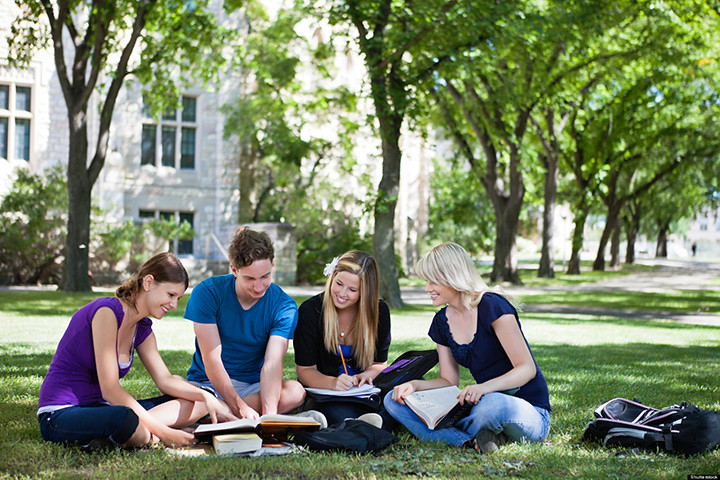Person: (394, 242, 552, 452), (37, 252, 194, 448), (189, 227, 299, 418), (298, 251, 391, 388)
